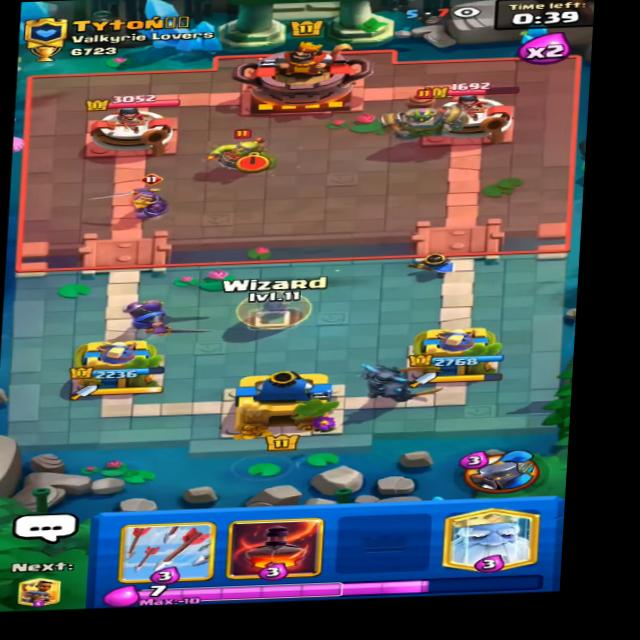evo-knight: (105, 172, 183, 220)
goblin-demolisher: (198, 119, 291, 184)
goblin-machine: (373, 85, 472, 140)
